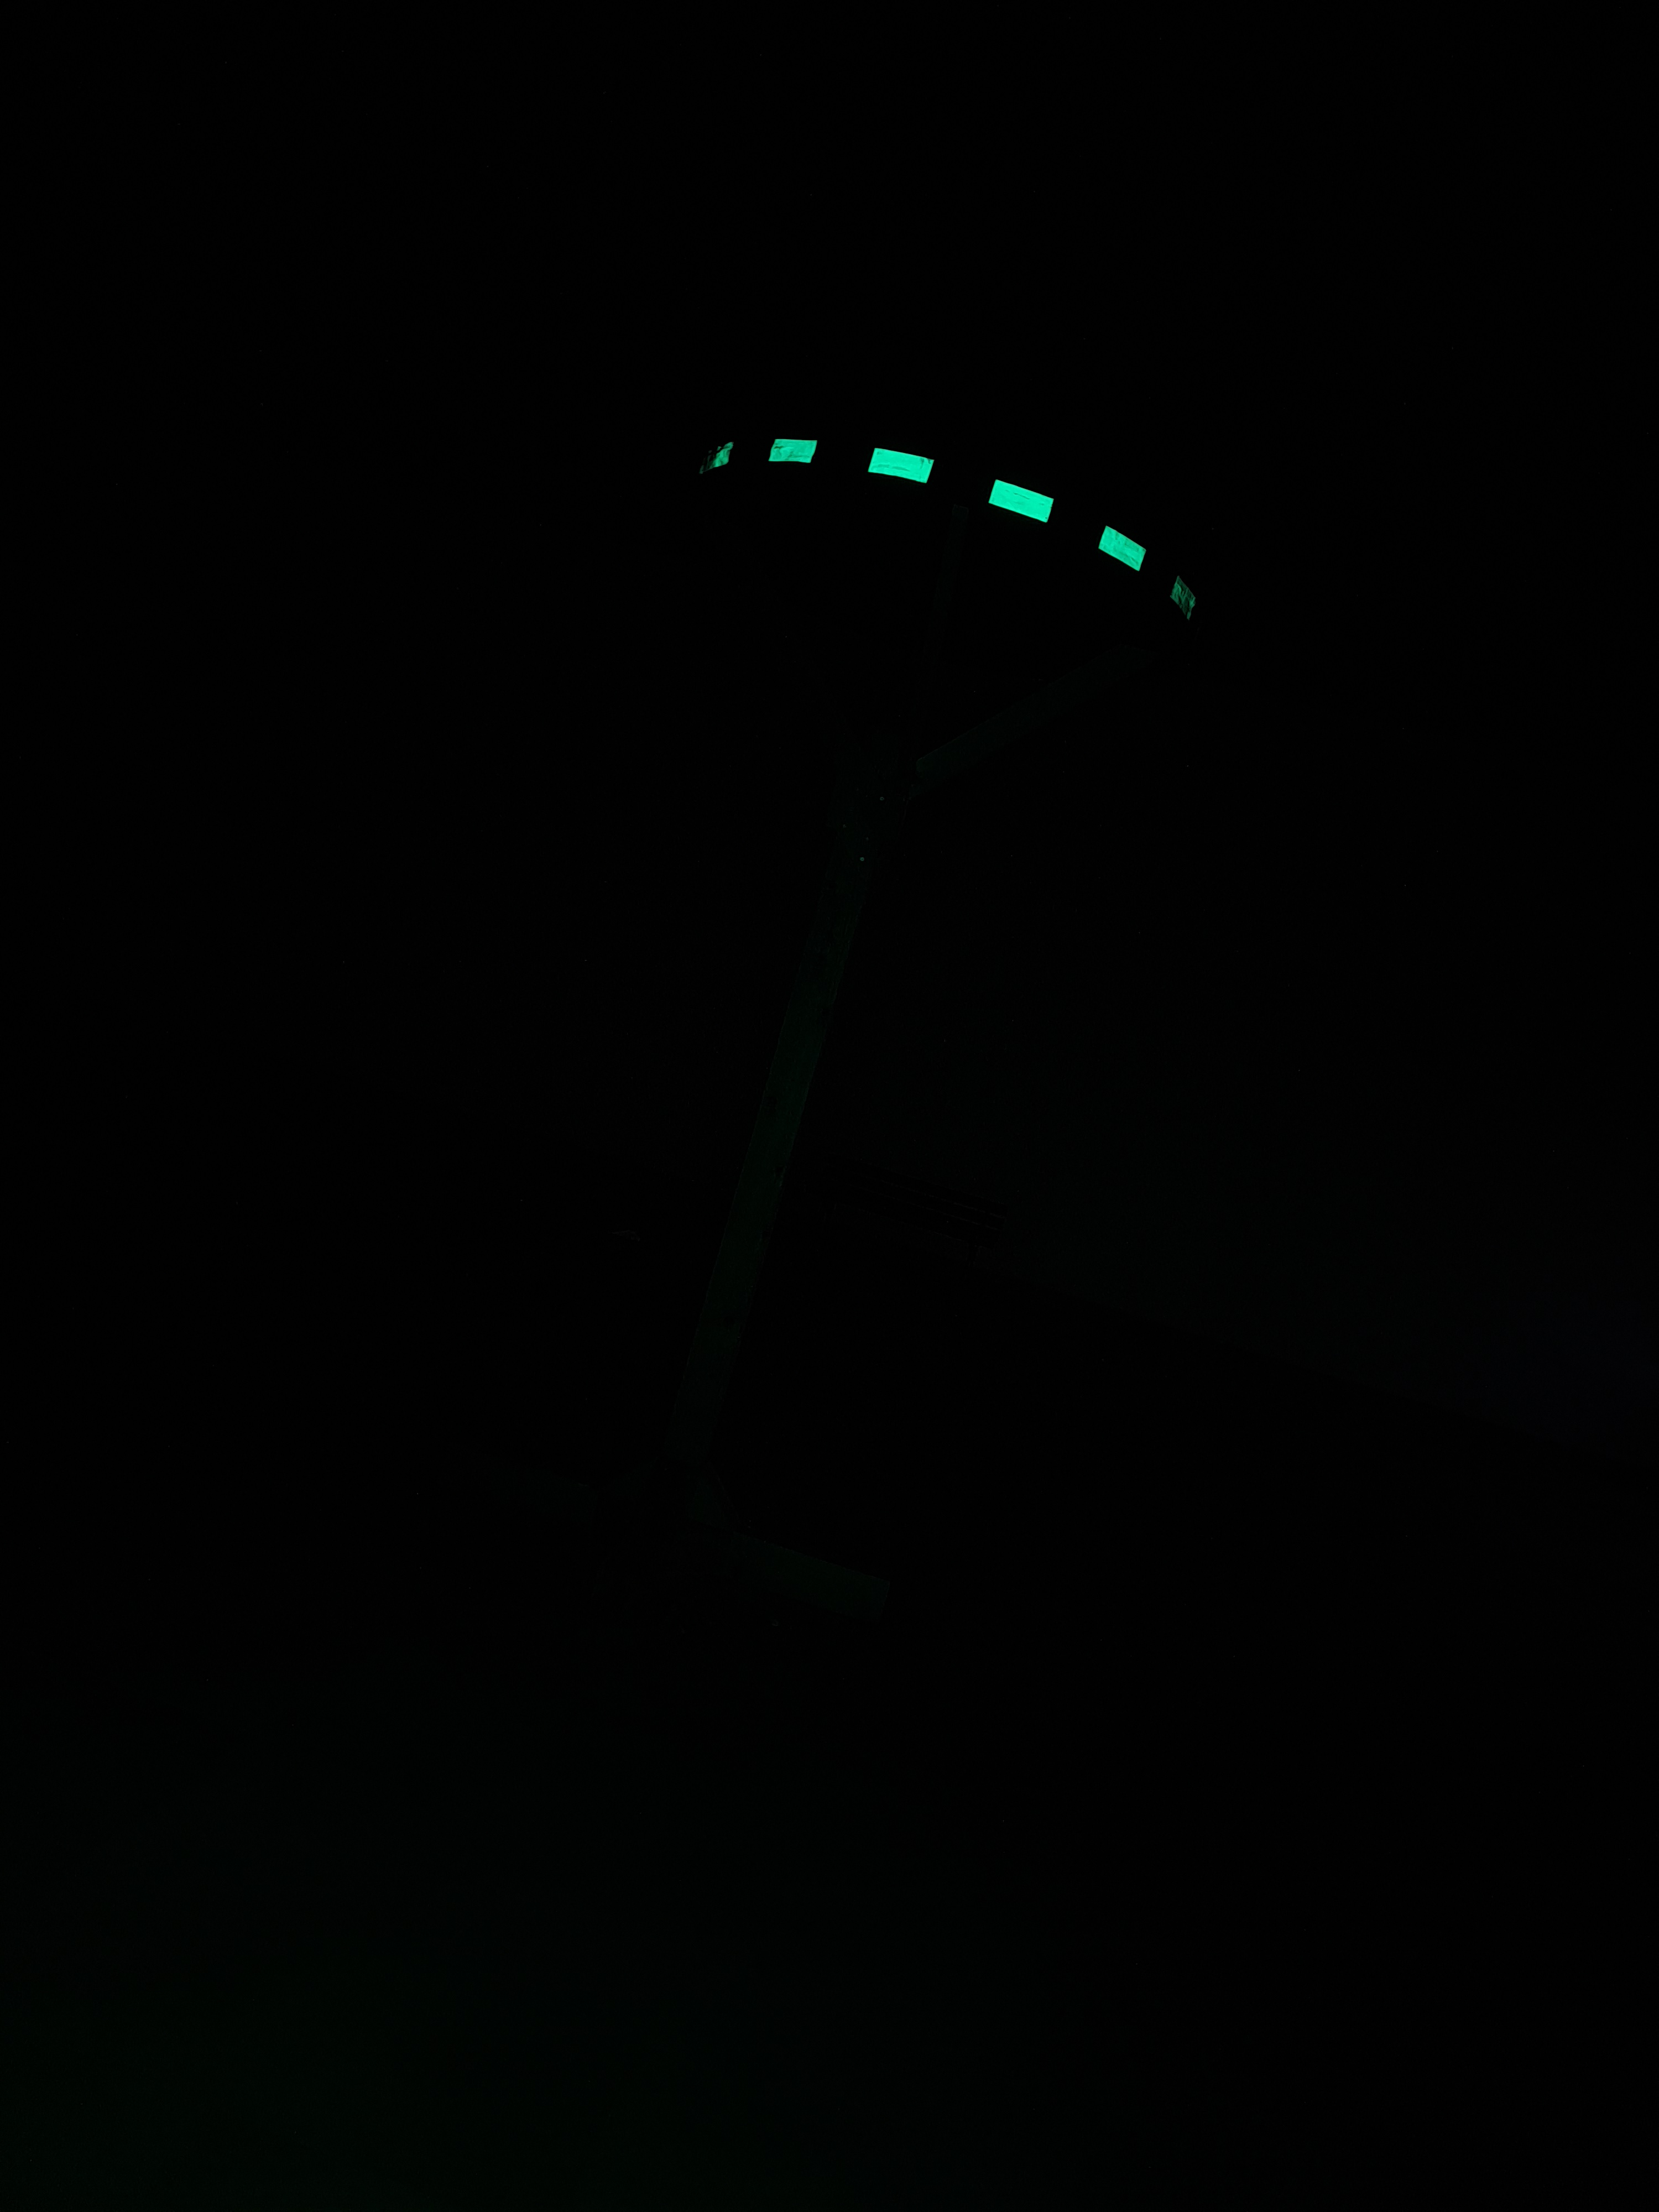hoop: (695, 421, 1204, 625)
